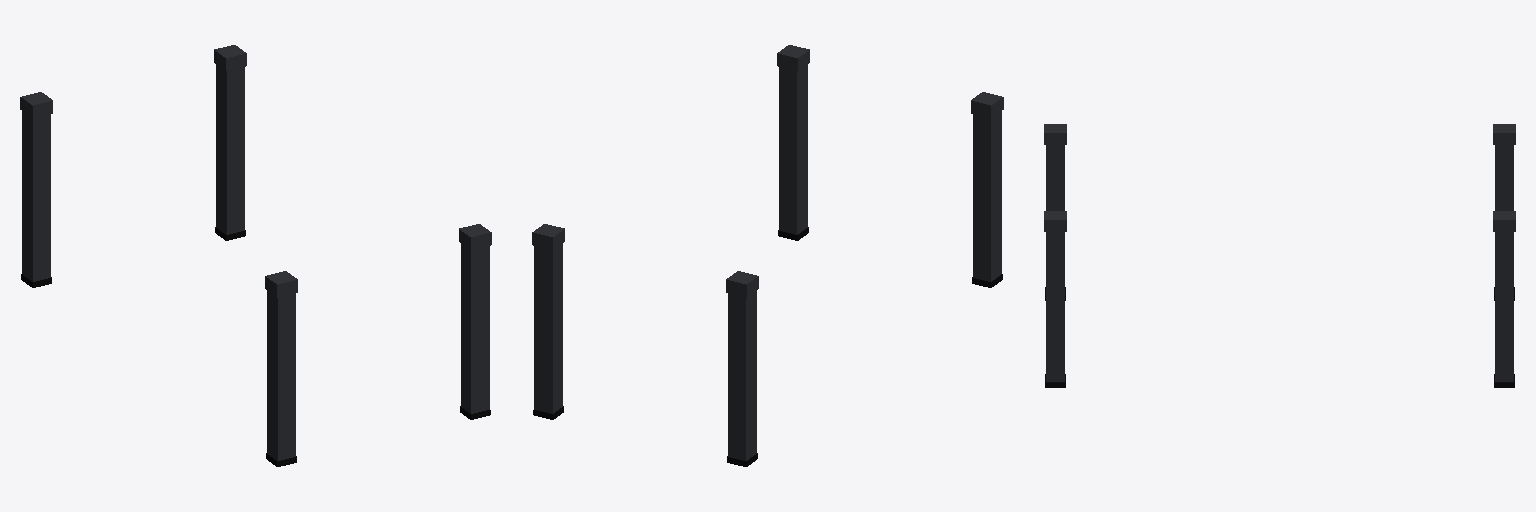
robot.urdf — table:
<?xml version='1.0' encoding='utf-8'?>
<robot name="table">
  <mujoco>
    <compiler discardvisual="false" fusestatic="false" />
  </mujoco>
  <link name="work_table">
    <inertial>
      <origin xyz="0 0 0.4" rpy="0 0 0" />
      <mass value="22" />
      <inertia ixx="4.0" ixy="0" ixz="0" iyy="1.3" iyz="0" izz="4.4" />
    </inertial>
    <visual>
      <origin xyz="0 0 0" rpy="0 0 0" />
      <geometry>
        <mesh filename="table_meshes/metal_frame.obj" />
      </geometry>
      <material name="metal_frame_color">
        <color rgba="0.22 0.23 0.25 1" />
      </material>
    </visual>
    <visual>
      <origin xyz="0 0 0" rpy="0 0 0" />
      <geometry>
        <mesh filename="table_meshes/tabletop.obj" />
      </geometry>
    </visual>
    <collision>
      <origin xyz="0 0 0.5845" rpy="0 0 0" />
      <geometry>
        <box size="0.744 1.494 0.027" />
      </geometry>
    </collision>
  </link>
  <link name="leg_01">
    <visual>
      <origin xyz="0 0 0" rpy="0 0 0" />
      <geometry>
        <mesh filename="table_meshes/leg.obj" />
      </geometry>
      <material name="leg_color">
        <color rgba="0.22 0.23 0.25 1" />
      </material>
    </visual>
    <visual>
      <origin xyz="0 0 0" rpy="0 0 0" />
      <geometry>
        <mesh filename="table_meshes/feet.obj" />
      </geometry>
      <material name="feet_color">
        <color rgba="0.08 0.08 0.09 1" />
      </material>
    </visual>
    <collision>
      <origin xyz="0 0 0.285" rpy="0 0 0" />
      <geometry>
        <box size="0.058 0.058 0.55" />
      </geometry>
    </collision>
  </link>
  <joint name="leg_01_fixed" type="fixed">
    <parent link="work_table" />
    <child link="leg_01" />
    <origin xyz="-0.315 -0.69 0" rpy="0 0 0" />
  </joint>
  <link name="leg_02">
    <visual>
      <origin xyz="0 0 0" rpy="0 0 0" />
      <geometry>
        <mesh filename="table_meshes/leg.obj" />
      </geometry>
      <material name="leg_color">
        <color rgba="0.22 0.23 0.25 1" />
      </material>
    </visual>
    <visual>
      <origin xyz="0 0 0" rpy="0 0 0" />
      <geometry>
        <mesh filename="table_meshes/feet.obj" />
      </geometry>
      <material name="feet_color">
        <color rgba="0.08 0.08 0.09 1" />
      </material>
    </visual>
    <collision>
      <origin xyz="0 0 0.285" rpy="0 0 0" />
      <geometry>
        <box size="0.058 0.058 0.55" />
      </geometry>
    </collision>
  </link>
  <joint name="leg_02_fixed" type="fixed">
    <parent link="work_table" />
    <child link="leg_02" />
    <origin xyz="-0.315 0.69 0" rpy="0 0 0" />
  </joint>
  <link name="leg_03">
    <visual>
      <origin xyz="0 0 0" rpy="0 0 0" />
      <geometry>
        <mesh filename="table_meshes/leg.obj" />
      </geometry>
      <material name="leg_color">
        <color rgba="0.22 0.23 0.25 1" />
      </material>
    </visual>
    <visual>
      <origin xyz="0 0 0" rpy="0 0 0" />
      <geometry>
        <mesh filename="table_meshes/feet.obj" />
      </geometry>
      <material name="feet_color">
        <color rgba="0.08 0.08 0.09 1" />
      </material>
    </visual>
    <collision>
      <origin xyz="0 0 0.285" rpy="0 0 0" />
      <geometry>
        <box size="0.058 0.058 0.55" />
      </geometry>
    </collision>
  </link>
  <joint name="leg_03_fixed" type="fixed">
    <parent link="work_table" />
    <child link="leg_03" />
    <origin xyz="0.315 -0.69 0" rpy="0 0 0" />
  </joint>
  <link name="leg_04">
    <visual>
      <origin xyz="0 0 0" rpy="0 0 0" />
      <geometry>
        <mesh filename="table_meshes/leg.obj" />
      </geometry>
      <material name="leg_color">
        <color rgba="0.22 0.23 0.25 1" />
      </material>
    </visual>
    <visual>
      <origin xyz="0 0 0" rpy="0 0 0" />
      <geometry>
        <mesh filename="table_meshes/feet.obj" />
      </geometry>
      <material name="feet_color">
        <color rgba="0.08 0.08 0.09 1" />
      </material>
    </visual>
    <collision>
      <origin xyz="0 0 0.285" rpy="0 0 0" />
      <geometry>
        <box size="0.058 0.058 0.55" />
      </geometry>
    </collision>
  </link>
  <joint name="leg_04_fixed" type="fixed">
    <parent link="work_table" />
    <child link="leg_04" />
    <origin xyz="0.315 0.69 0" rpy="0 0 0" />
  </joint>
</robot>

--- Render facts (derived) ---
Views: 3 orthographic renders of the robot side by side, from view 1: azimuth 30°, elevation 25°; view 2: azimuth 150°, elevation 25°; view 3: azimuth 270°, elevation 25°.
Model table with 5 links and 4 joints (4 fixed), rooted at work_table, posed every joint at zero.
Visible links, largest first — view 1: leg_01, leg_02, leg_04, leg_03; view 2: leg_01, leg_02, leg_03, leg_04; view 3: leg_03, leg_04, leg_01, leg_02.
Boxes of the visible links, left/top/right/bottom form: leg_01: left=265, top=271, right=297, bottom=466; leg_02: left=20, top=92, right=52, bottom=287; leg_04: left=214, top=45, right=246, bottom=240; leg_03: left=459, top=224, right=491, bottom=419; leg_01: left=971, top=92, right=1003, bottom=287; leg_02: left=726, top=271, right=758, bottom=466; leg_03: left=777, top=45, right=809, bottom=240; leg_04: left=532, top=224, right=564, bottom=419; leg_03: left=1044, top=211, right=1066, bottom=387; leg_04: left=1493, top=211, right=1515, bottom=387; leg_01: left=1044, top=124, right=1066, bottom=300; leg_02: left=1493, top=124, right=1515, bottom=300.
Size in the robot's own frame: 0.698 by 1.45 by 0.57 metres.
8 mesh visuals loaded from 4 distinct referenced files (2 OBJ); not drawn: 2 (reference not matched to a file when rendering).
